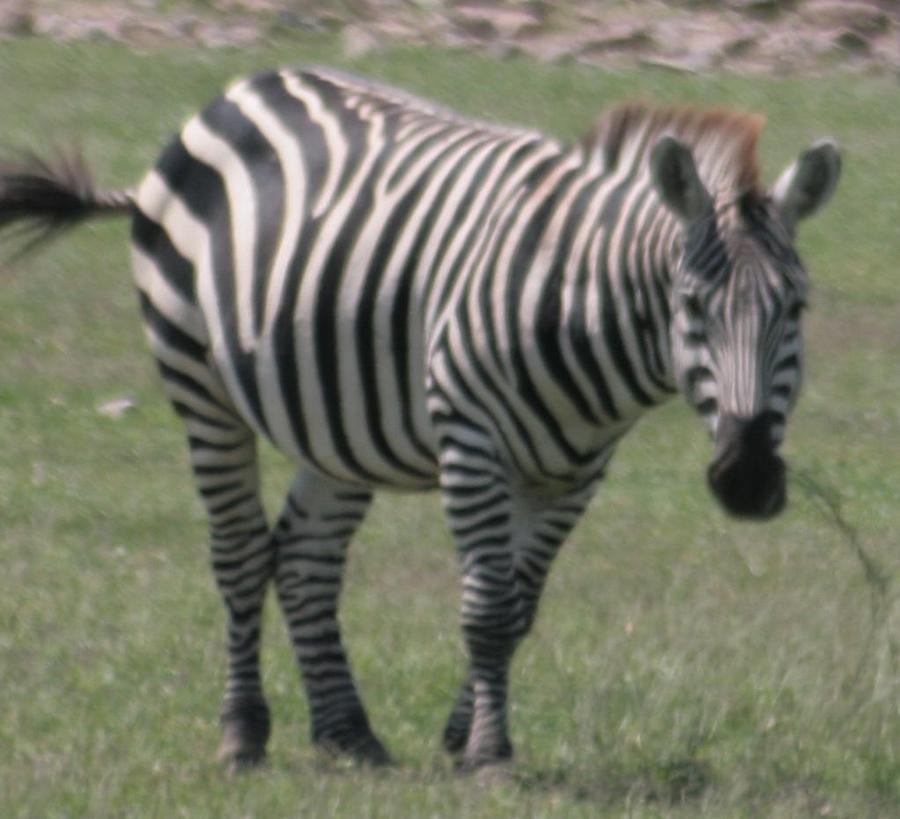zebra_plains: (78, 106, 651, 520)
